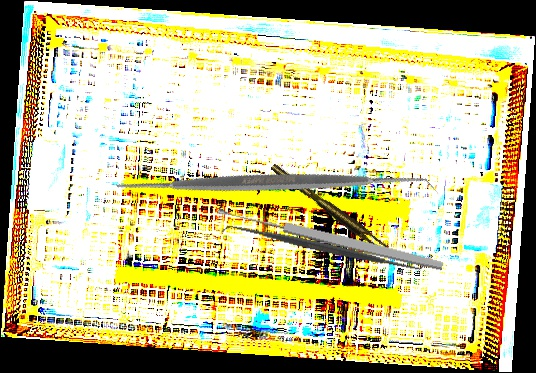Spatula Surgical: (104, 15, 440, 351), (220, 212, 432, 283)
Surgical Spoon: (216, 203, 445, 273)
Tissue Forceps: (270, 157, 390, 259)
